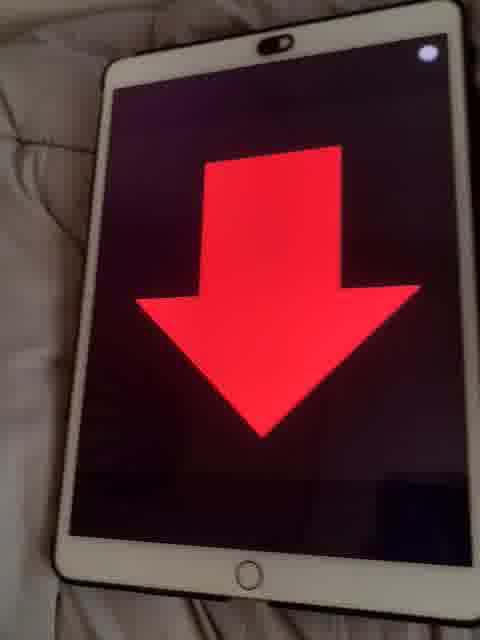down: (130, 147, 423, 443)
